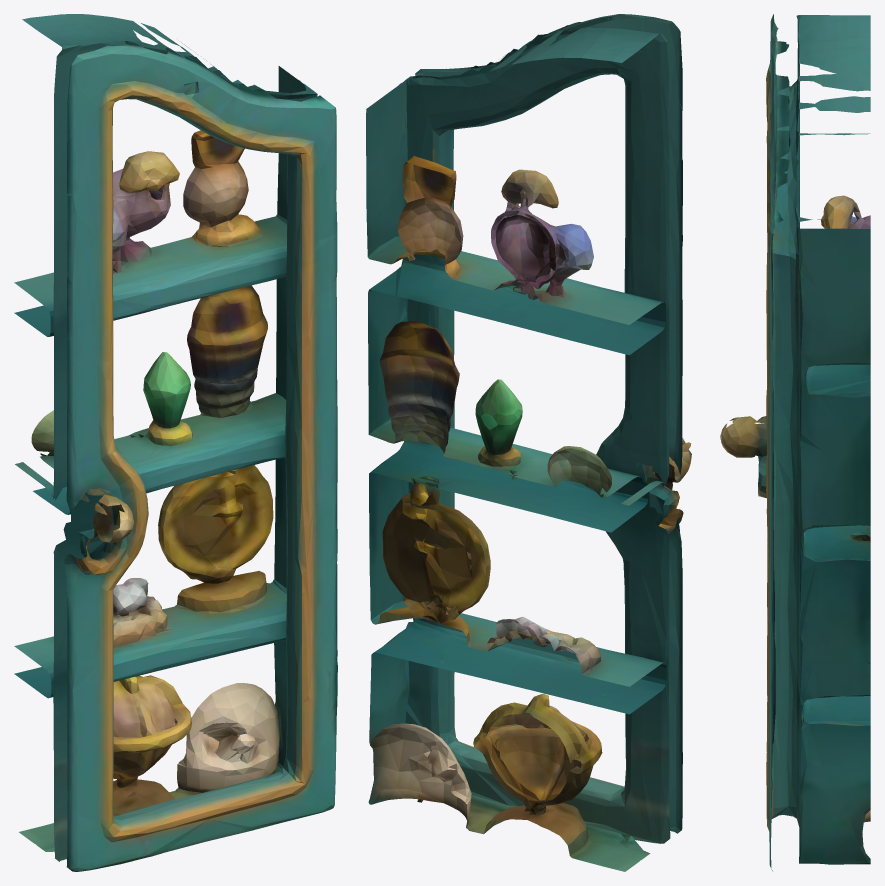
Rendered from door_right.glb.
3 renders of one model, left to right at view 1: azimuth 30°, elevation 25°; view 2: azimuth 150°, elevation 25°; view 3: azimuth 270°, elevation 25°, orthographic. The views are drawn at different scales.
Parts seen in each view (by area): view 1: source_surface_0; view 2: source_surface_0; view 3: source_surface_0.
Boxes of the visible parts, bbox=[...] form: source_surface_0: bbox=[14, 14, 337, 871]; source_surface_0: bbox=[366, 14, 691, 871]; source_surface_0: bbox=[720, 14, 870, 870].
Bounding box in the file's own units: 0.2126 × 0.6123 × 0.112.
1 material, 1 textured.
